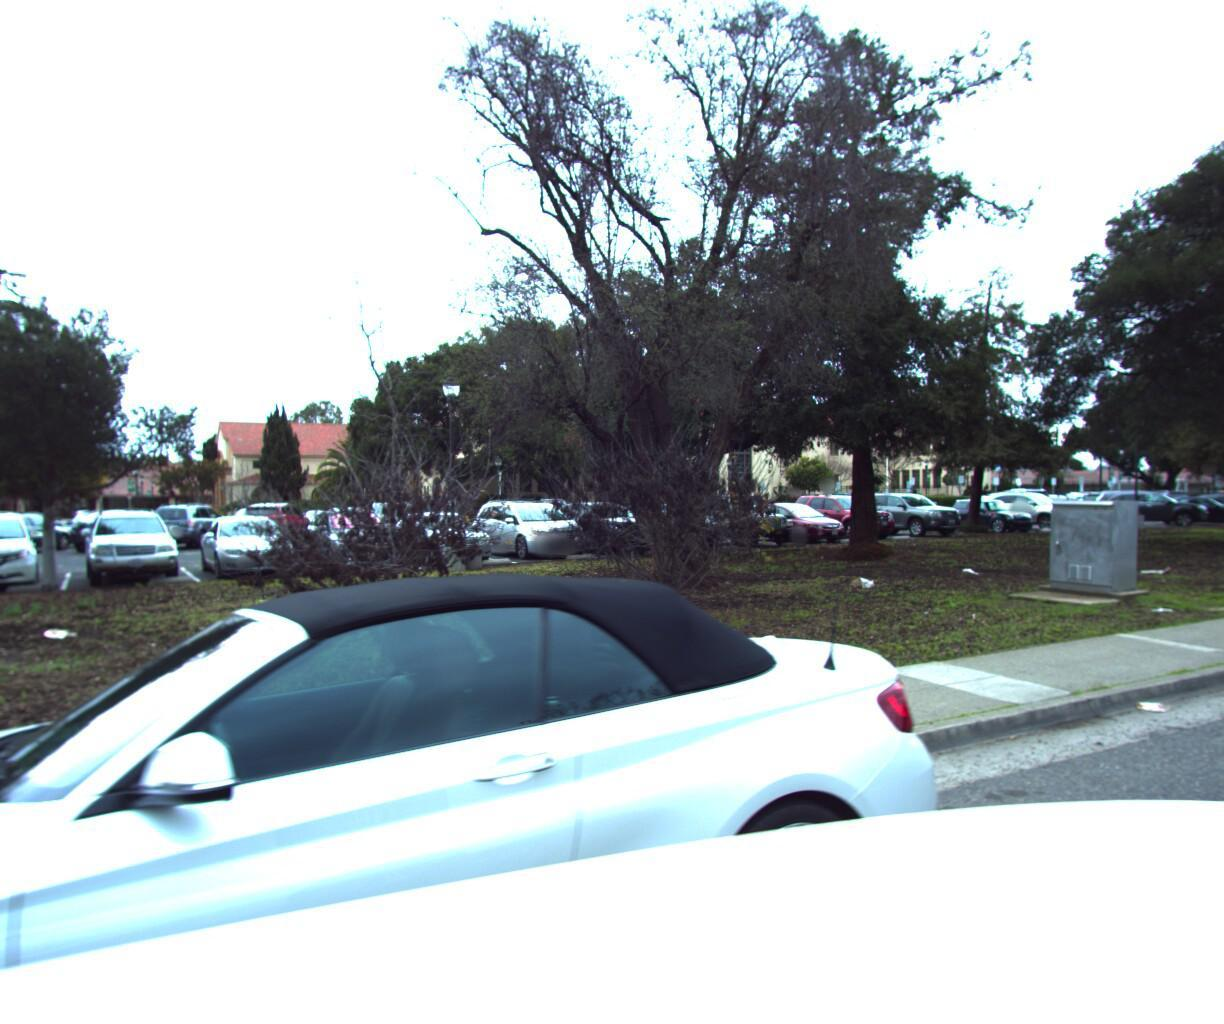car: (0, 536, 1002, 1024)
